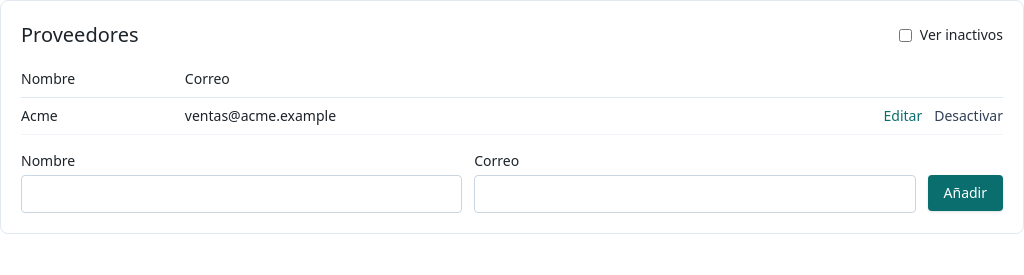
Test: TablaLista › marca el campo cuando la API rechaza el correo
Check: the text "Acme" is shown, box [21,98,185,134]
Type "Gamma" into the field labelled "Nombre" at (242, 194), box [21,175,462,213]
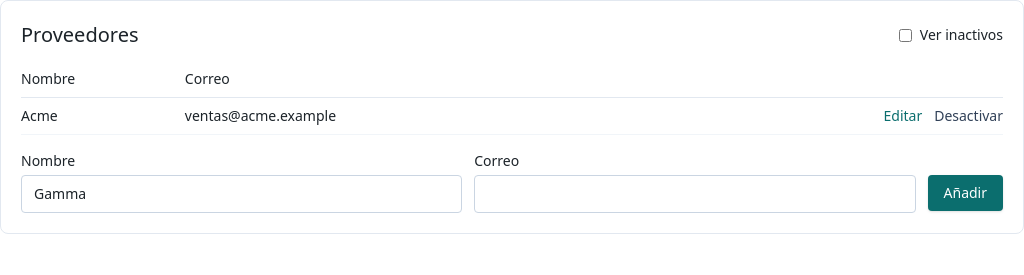
Type "a@3.3" into the field labelled "Correo" at (695, 194), box [474,175,916,213]
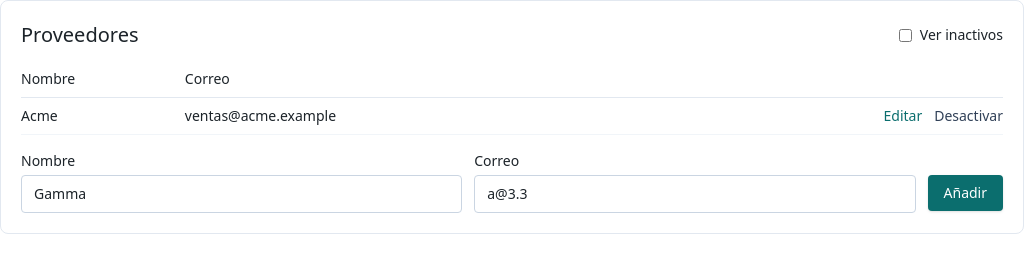
Click the button "Añadir" at (965, 193), box [928,175,1003,211]
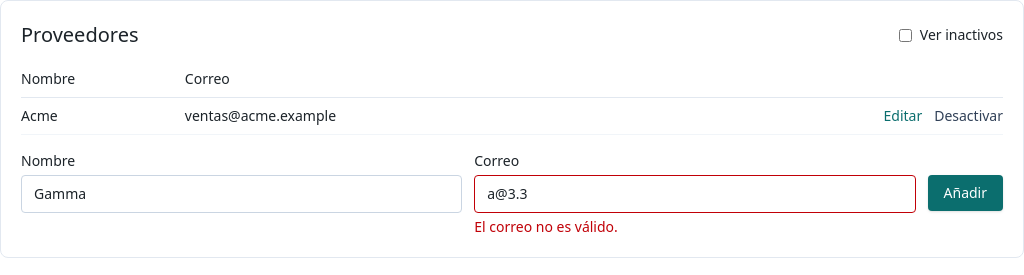
Check: the text "El correo no es válido." is shown, box [474,217,618,236]
